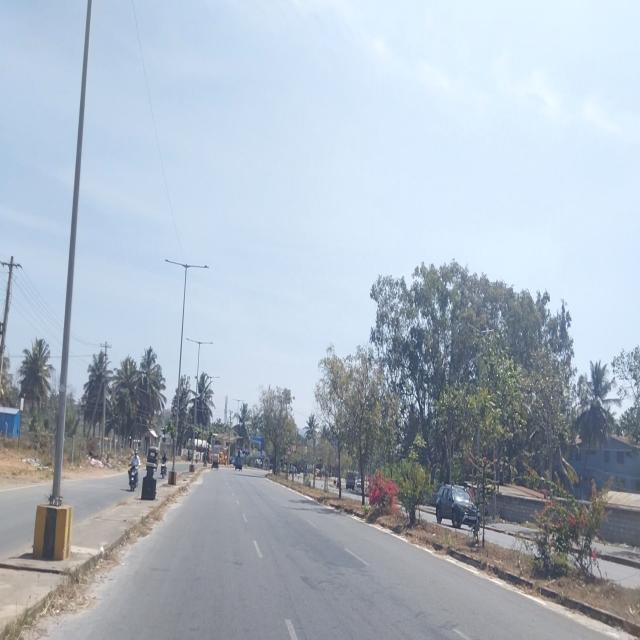bien_cam: (284, 444, 292, 456)
